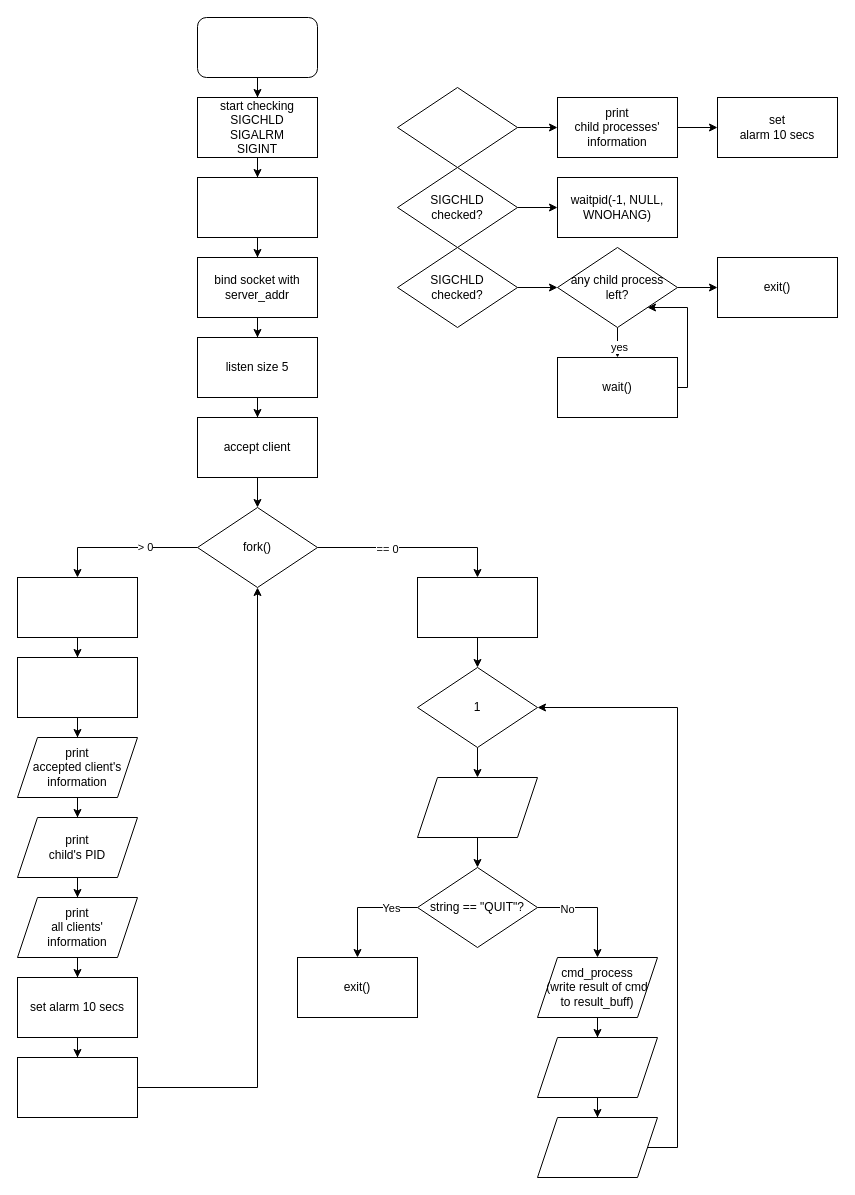
Image size: 855x1195. Some labels were removed from this diagram. Here are the shapes that lost their labels. From the top down, the box of each, then its label:
(196, 16, 318, 78): start
(396, 86, 518, 168): SIGALRM checked?
(196, 176, 318, 238): oepn server socket
(16, 576, 138, 638): parent
(416, 576, 538, 638): child
(16, 656, 138, 718): add client info to linked list
(416, 776, 538, 838): read from Client
(16, 1056, 138, 1118): close client fd
(536, 1036, 658, 1098): print client's sending FTP command
(536, 1116, 658, 1178): send result_buff to client
